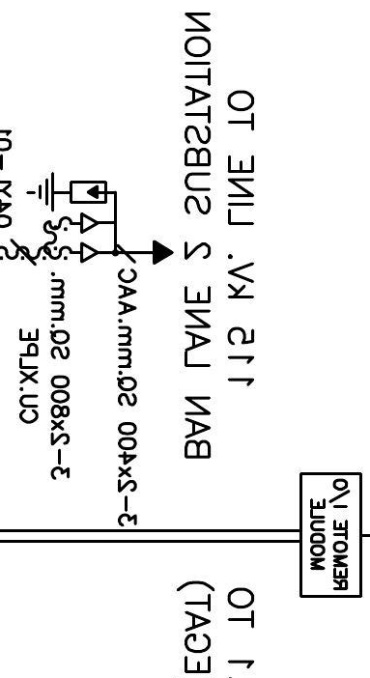115_la: (25, 171, 108, 213)
remote_io_module: (299, 472, 362, 599)
terminator_double: (80, 211, 118, 265)
